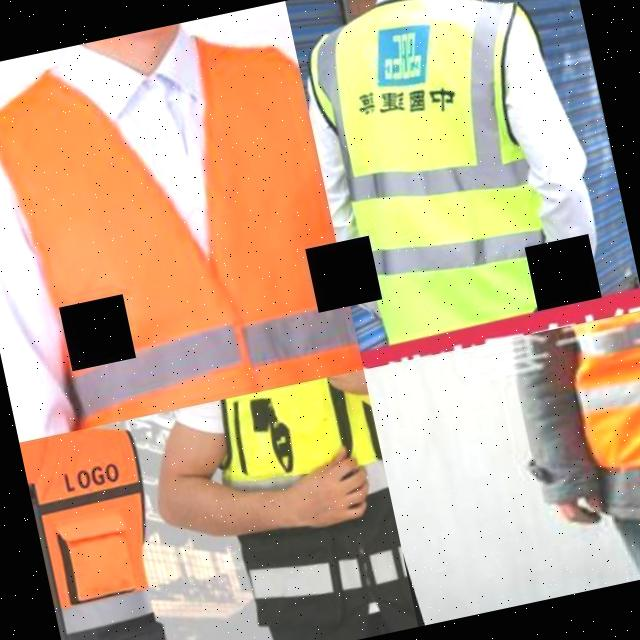vest: (0, 0, 363, 442), (289, 0, 575, 351), (18, 416, 190, 640), (191, 370, 393, 548), (522, 309, 640, 512)
